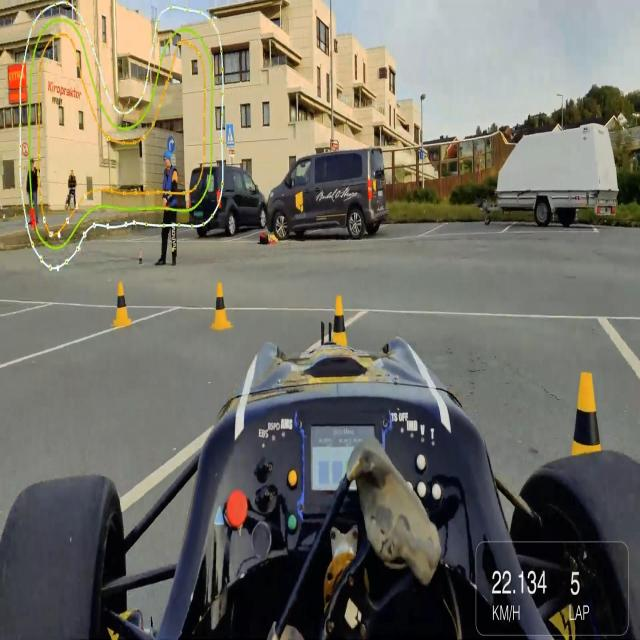yellow_cone: (558, 367, 620, 555), (318, 294, 356, 422), (209, 281, 233, 332), (112, 282, 131, 329)
